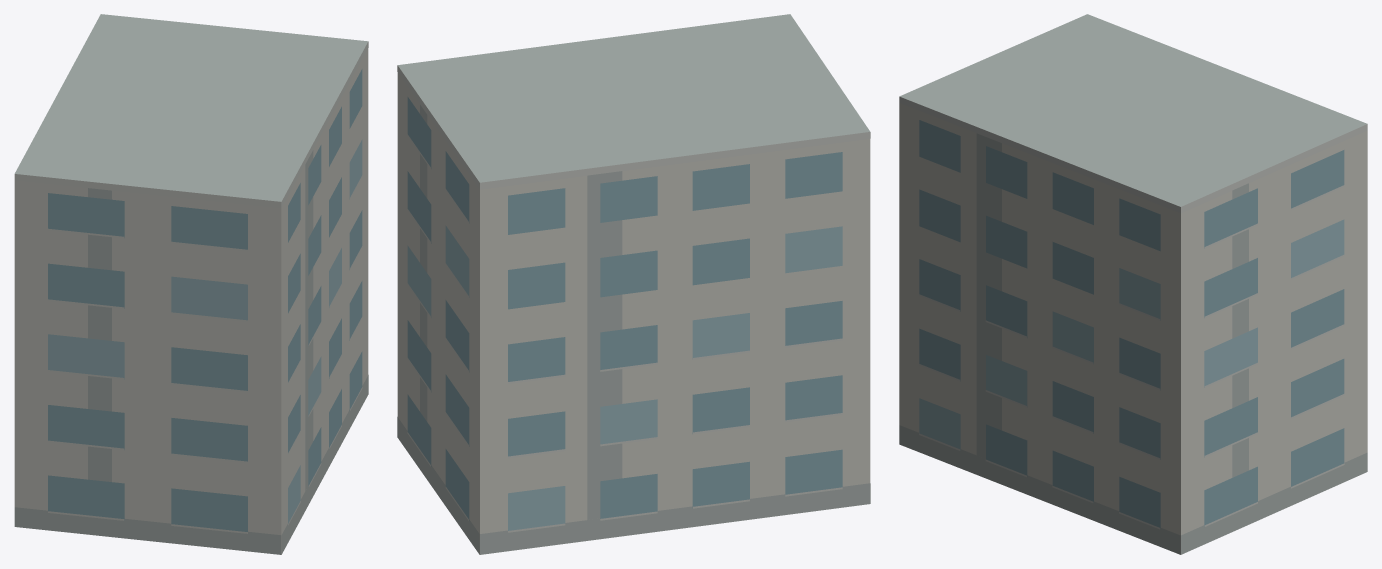
Rendered from survey-upis-32894117.glb.
The picture shows the model from 3 angles, left to right: view 1: azimuth 30°, elevation 25°; view 2: azimuth 150°, elevation 25°; view 3: azimuth 270°, elevation 25°; orthographic projection. The views are drawn at different scales.
Parts seen in each view (by area): view 1: survey-upis-32894117.tmp; view 2: survey-upis-32894117.tmp; view 3: survey-upis-32894117.tmp.
Part boxes in pixels (left/top/right/bottom): survey-upis-32894117.tmp: left=14, top=14, right=368, bottom=554; survey-upis-32894117.tmp: left=397, top=14, right=870, bottom=554; survey-upis-32894117.tmp: left=899, top=14, right=1367, bottom=554.
Bounding box in the file's own units: 15.71 × 13.2 × 16.11.
